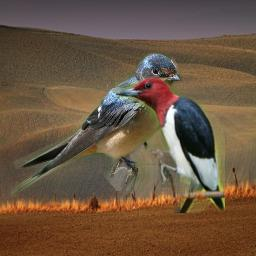Swallow: (11, 53, 182, 197)
Woodpecker: (115, 76, 225, 213)
